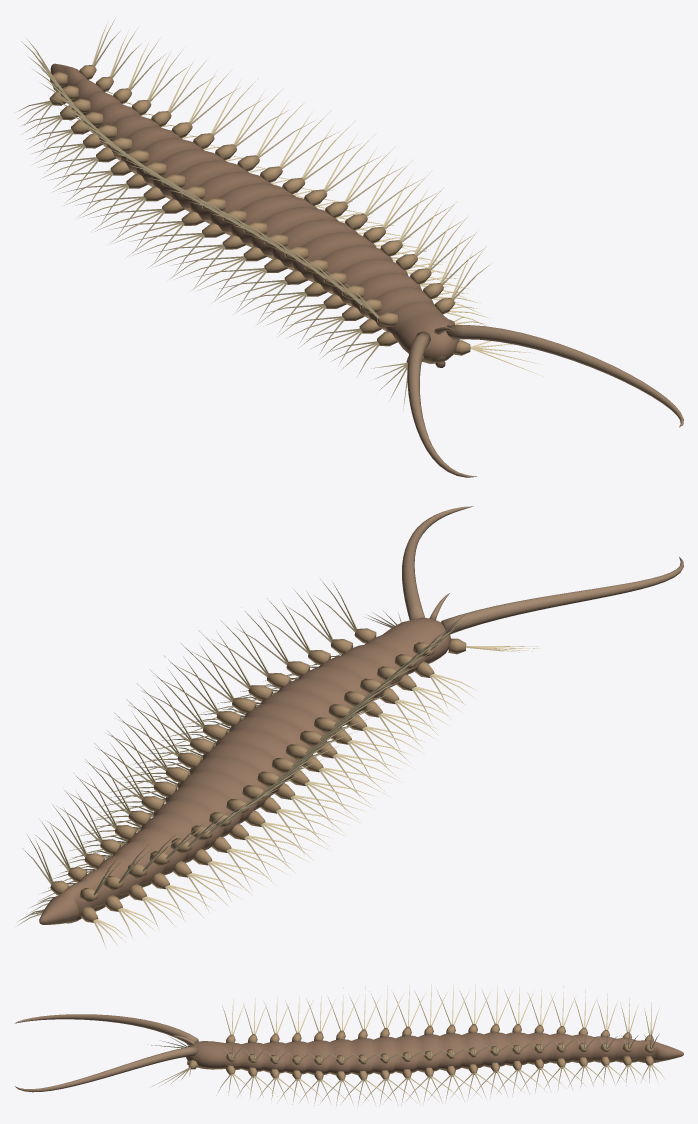
The picture shows the model from 3 angles, top to bottom: view 1: azimuth 30°, elevation 25°; view 2: azimuth 150°, elevation 25°; view 3: azimuth 270°, elevation 25°; orthographic projection. The views are drawn at different scales.
Parts seen in each view (by area): view 1: continuous-prostomium-20-trunk-segments-pygidium, left-ventral-chaetal-fans, right-dorsal-chaetal-fans, right-dorsal-parapodial-lobes, left-ventral-parapodial-lobes, left-dorsal-parapodial-lobes, right-long-sensory-palp, left-dorsal-chaetal-fans, left-long-sensory-palp, right-ventral-chaetal-fans; view 2: continuous-prostomium-20-trunk-segments-pygidium, left-ventral-chaetal-fans, right-dorsal-chaetal-fans, right-dorsal-parapodial-lobes, left-dorsal-parapodial-lobes, left-ventral-parapodial-lobes, left-dorsal-chaetal-fans, left-long-sensory-palp, right-ventral-chaetal-fans, right-long-sensory-palp; view 3: continuous-prostomium-20-trunk-segments-pygidium, left-dorsal-chaetal-fans, right-ventral-chaetal-fans, right-ventral-parapodial-lobes, left-dorsal-parapodial-lobes, right-dorsal-parapodial-lobes, right-long-sensory-palp, right-dorsal-chaetal-fans, left-long-sensory-palp.
Part boxes in pixels (<box>): continuous-prostomium-20-trunk-segments-pygidium: <box>50,63,459,363</box>; left-ventral-chaetal-fans: <box>18,100,379,376</box>; right-dorsal-chaetal-fans: <box>92,18,490,299</box>; right-dorsal-parapodial-lobes: <box>79,65,454,314</box>; left-ventral-parapodial-lobes: <box>49,91,397,346</box>; left-dorsal-parapodial-lobes: <box>50,72,398,326</box>; right-long-sensory-palp: <box>446,325,683,427</box>; left-dorsal-chaetal-fans: <box>21,39,379,318</box>; left-long-sensory-palp: <box>407,331,476,477</box>; right-ventral-chaetal-fans: <box>107,91,488,326</box>; continuous-prostomium-20-trunk-segments-pygidium: <box>39,617,451,924</box>; left-ventral-chaetal-fans: <box>93,673,476,948</box>; right-dorsal-chaetal-fans: <box>22,579,357,884</box>; right-dorsal-parapodial-lobes: <box>50,628,376,895</box>; left-dorsal-parapodial-lobes: <box>79,642,434,902</box>; left-ventral-parapodial-lobes: <box>80,661,434,922</box>; left-dorsal-chaetal-fans: <box>93,614,471,895</box>; left-long-sensory-palp: <box>441,557,683,634</box>; right-ventral-chaetal-fans: <box>16,654,341,926</box>; right-long-sensory-palp: <box>402,506,473,620</box>; continuous-prostomium-20-trunk-segments-pygidium: <box>186,1032,683,1075</box>; left-dorsal-chaetal-fans: <box>222,984,659,1035</box>; right-ventral-chaetal-fans: <box>216,1064,665,1106</box>; right-ventral-parapodial-lobes: <box>226,1056,654,1081</box>; left-dorsal-parapodial-lobes: <box>226,1023,653,1042</box>; right-dorsal-parapodial-lobes: <box>226,1043,653,1064</box>; right-long-sensory-palp: <box>15,1046,198,1092</box>; right-dorsal-chaetal-fans: <box>222,1029,659,1062</box>; left-long-sensory-palp: <box>14,1014,198,1045</box>.
Size of the model in its own units: 0.00889 by 0.00329 by 0.0334.
